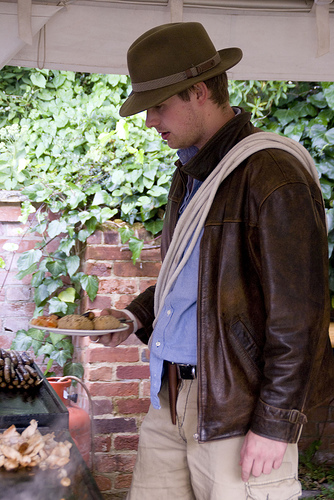without_mask: (129, 61, 229, 155)
